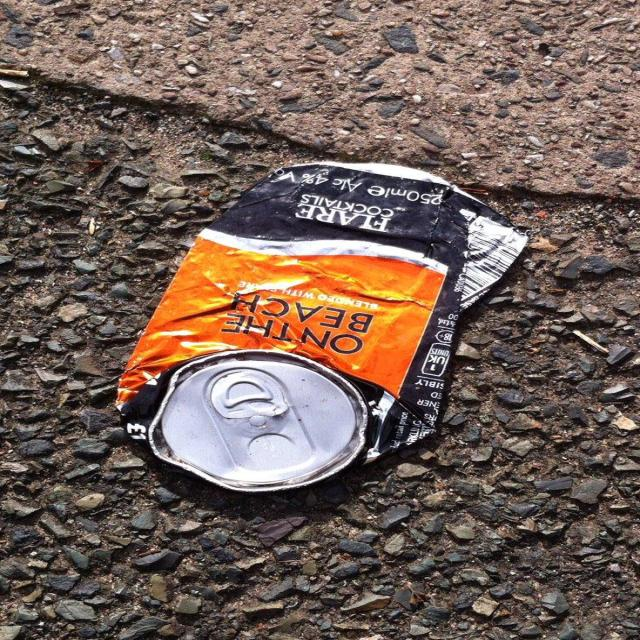can: (113, 160, 528, 496)
pop tab: (210, 371, 287, 420)
